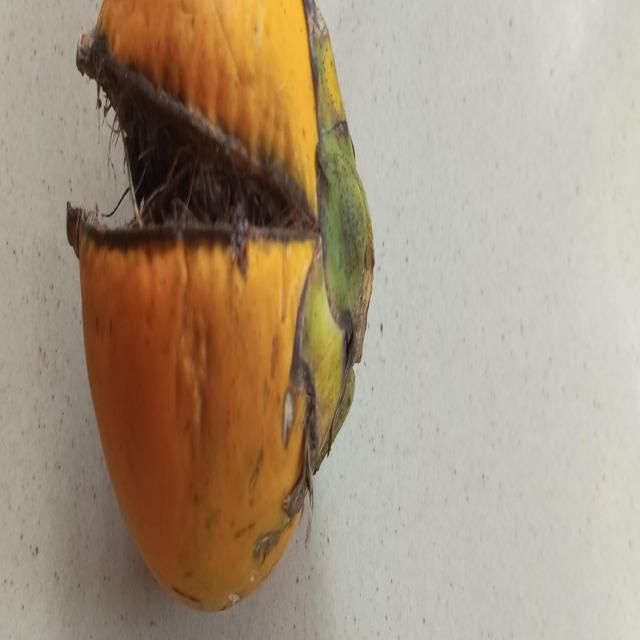damaged: (66, 0, 375, 615)
